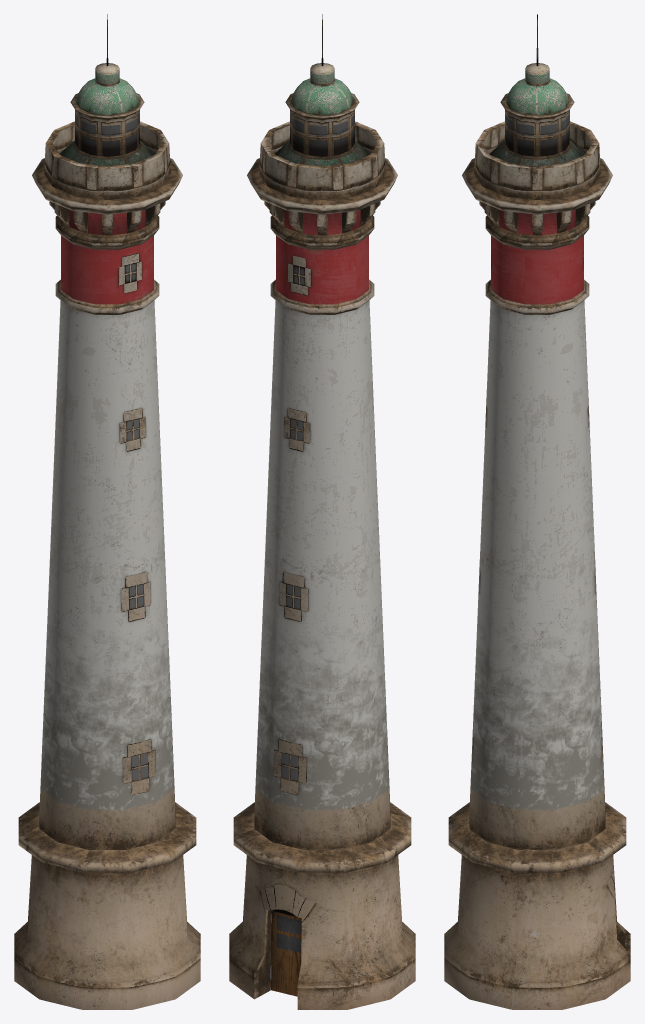
File: ETC0610043.fbx
3 renders of one model, left to right at view 1: azimuth 30°, elevation 25°; view 2: azimuth 150°, elevation 25°; view 3: azimuth 270°, elevation 25°, orthographic.
Parts seen in each view (by area): view 1: smETC0610043; view 2: smETC0610043; view 3: smETC0610043.
Part boxes in pixels (x1,y1,x2,y2): smETC0610043: (14,14,200,1009); smETC0610043: (229,14,415,1009); smETC0610043: (444,14,630,1009).
Bounding box in the file's own units: 410 × 2328 × 410.
